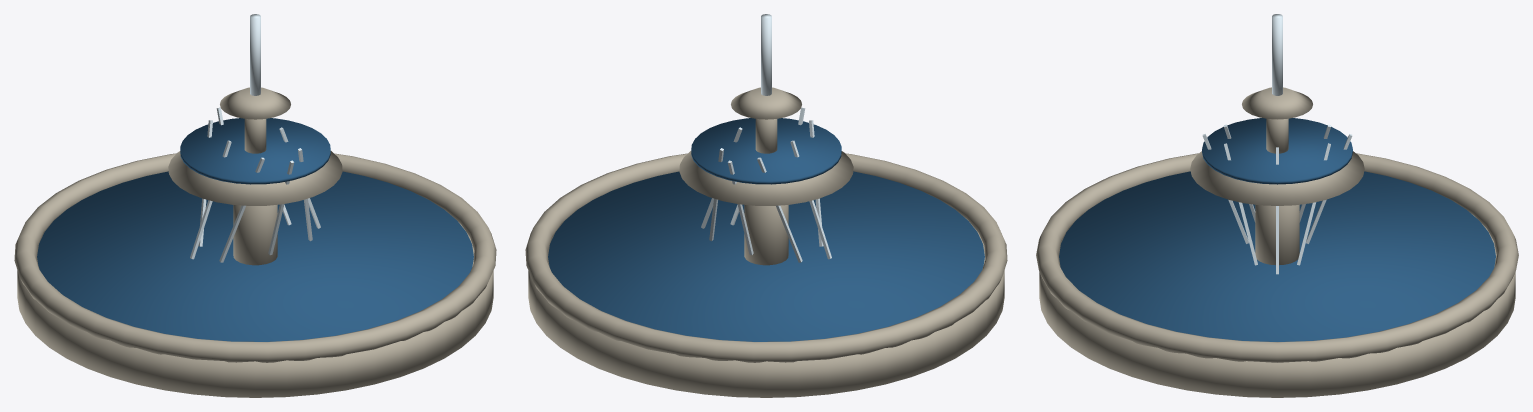
File: chafariz.glb
The picture shows the model from 3 angles, left to right: view 1: azimuth 30°, elevation 25°; view 2: azimuth 150°, elevation 25°; view 3: azimuth 270°, elevation 25°; orthographic projection.
Parts seen in each view (by area): view 1: bacia_agua, bacia_aro, bacia_borda, taca_agua, taca, coluna, taca2, jato, coluna2; view 2: bacia_agua, bacia_aro, bacia_borda, taca_agua, taca, coluna, taca2, jato, coluna2; view 3: bacia_agua, bacia_aro, bacia_borda, taca_agua, taca, coluna, taca2, jato, coluna2.
Boxes of the visible parts, box(x1,y1,x2,y2) form: bacia_agua: box(37, 171, 473, 341); bacia_aro: box(14, 153, 496, 362); bacia_borda: box(17, 218, 493, 397); taca_agua: box(180, 118, 330, 184); taca: box(168, 151, 342, 205); coluna: box(233, 204, 277, 265); taca2: box(220, 87, 290, 119); jato: box(250, 14, 260, 95); coluna2: box(244, 119, 266, 153); bacia_agua: box(548, 171, 984, 341); bacia_aro: box(525, 153, 1007, 362); bacia_borda: box(528, 218, 1004, 397); taca_agua: box(691, 118, 841, 184); taca: box(679, 151, 853, 205); coluna: box(744, 204, 788, 265); taca2: box(731, 87, 801, 119); jato: box(761, 14, 771, 95); coluna2: box(755, 119, 777, 153); bacia_agua: box(1059, 171, 1495, 341); bacia_aro: box(1036, 153, 1518, 362); bacia_borda: box(1039, 214, 1515, 397); taca_agua: box(1202, 118, 1352, 184); taca: box(1190, 151, 1364, 205); coluna: box(1255, 204, 1299, 265); taca2: box(1242, 87, 1312, 119); jato: box(1272, 14, 1282, 95); coluna2: box(1266, 118, 1288, 153).
Bounding box in the file's own units: 6.08 × 3.9 × 6.08.
